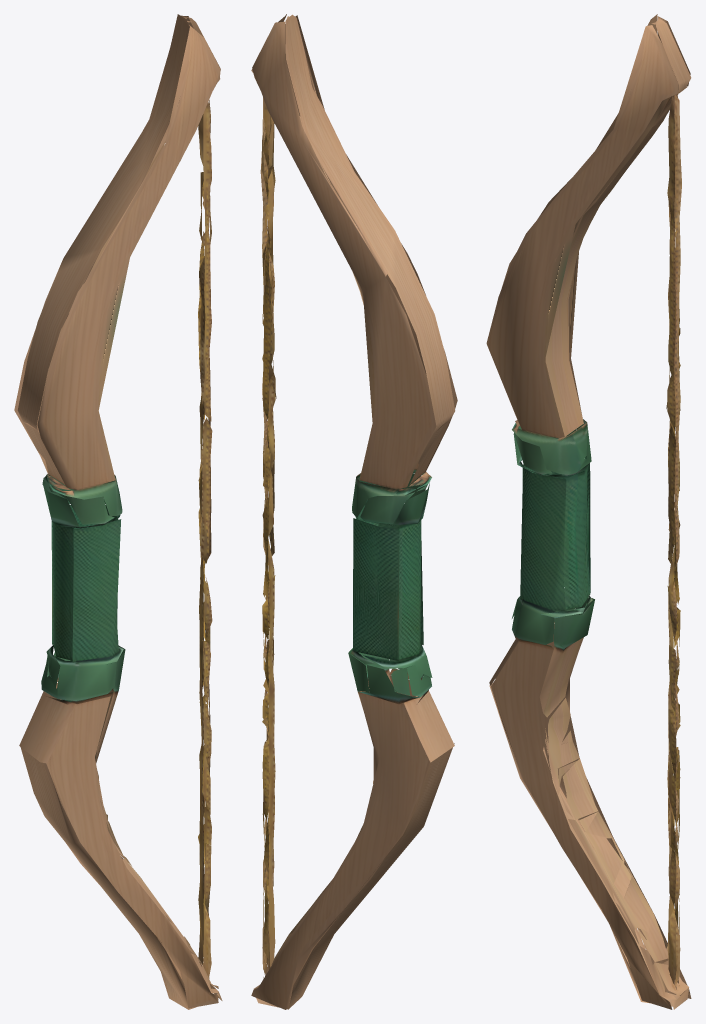
File: CHR_Archer_A_Weapon.glb
The picture shows the model from 3 angles, left to right: view 1: azimuth 30°, elevation 25°; view 2: azimuth 150°, elevation 25°; view 3: azimuth 330°, elevation 25°; orthographic projection.
Visible parts, largest first — view 1: CHR_Archer_A_Weapon; view 2: CHR_Archer_A_Weapon; view 3: CHR_Archer_A_Weapon.
Boxes of the visible parts, x1=… form: CHR_Archer_A_Weapon: x1=14, y1=14, x2=222, y2=1009; CHR_Archer_A_Weapon: x1=251, y1=14, x2=457, y2=1009; CHR_Archer_A_Weapon: x1=486, y1=14, x2=691, y2=1009.
Bounding box in the file's own units: 0.2391 × 1.18 × 0.0752.
Materials: 1 (1 with a texture image).
